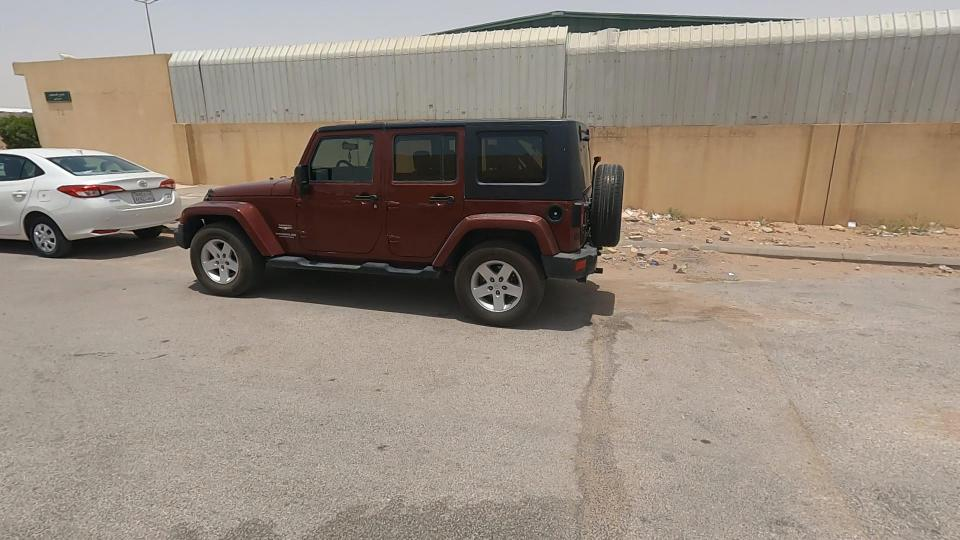GARBAGE: (563, 203, 729, 307), (586, 174, 706, 267), (785, 191, 904, 266)
